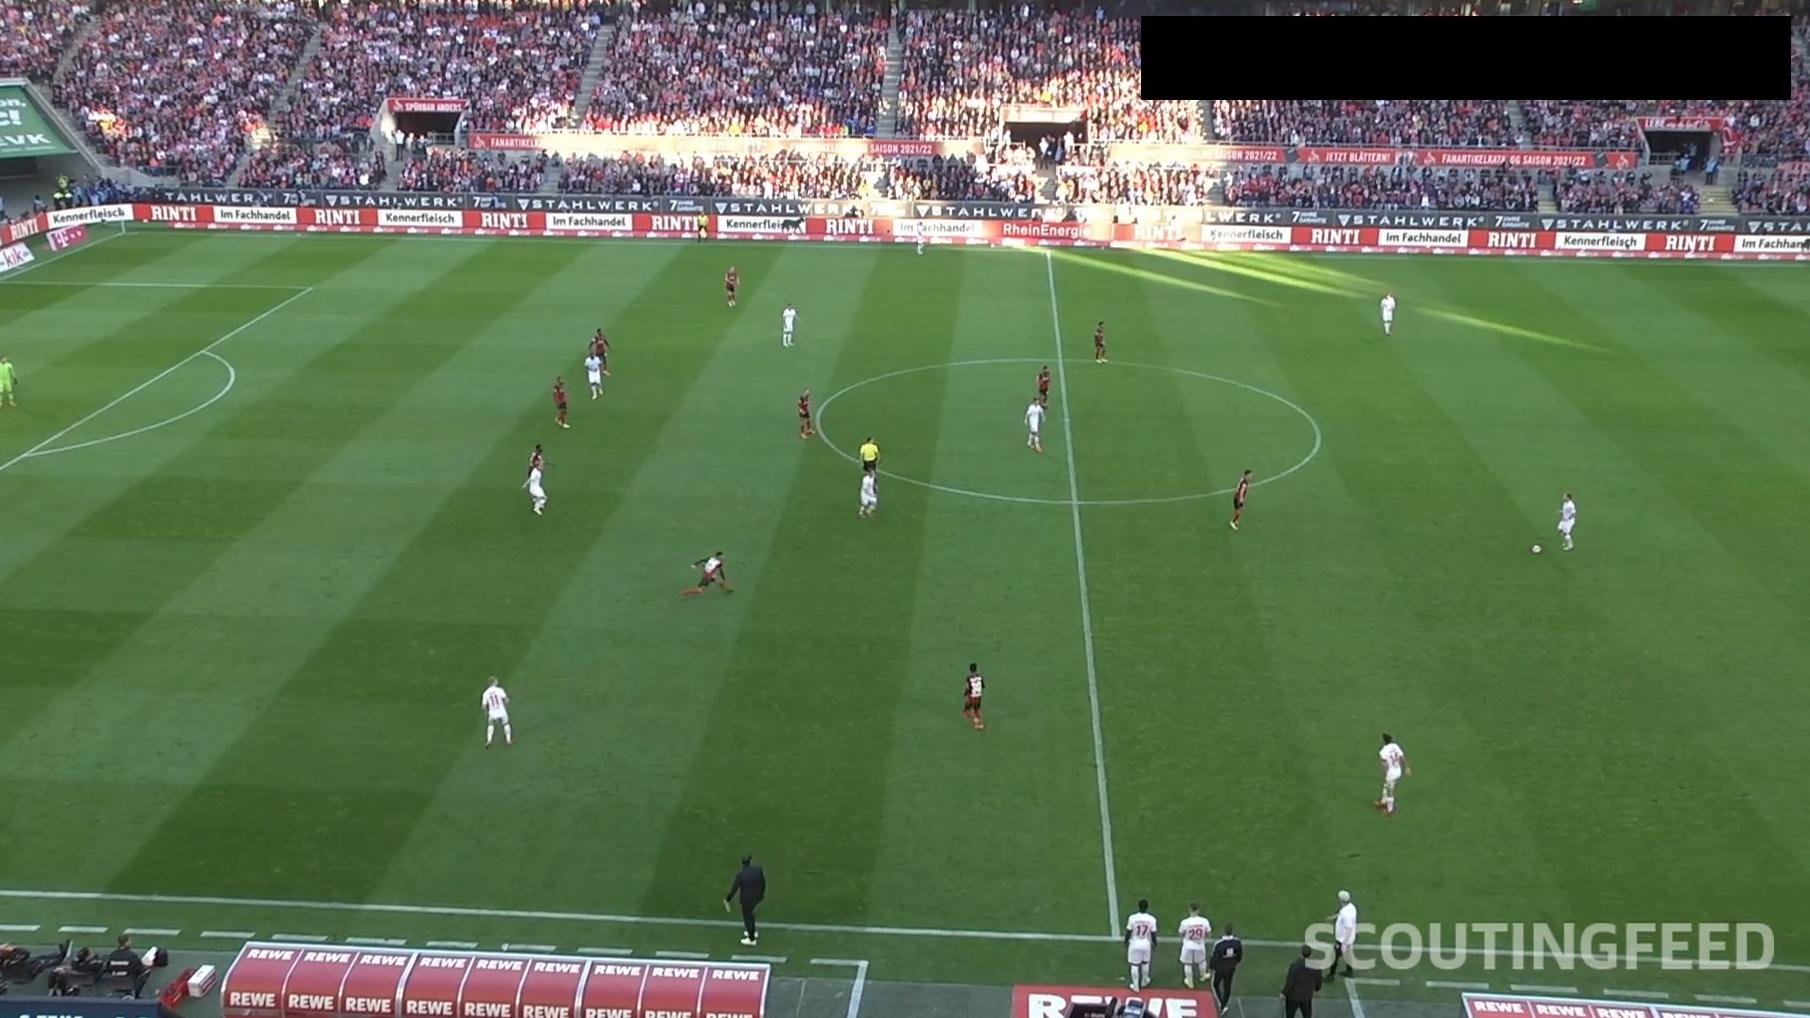ball: (1532, 543, 1541, 553)
